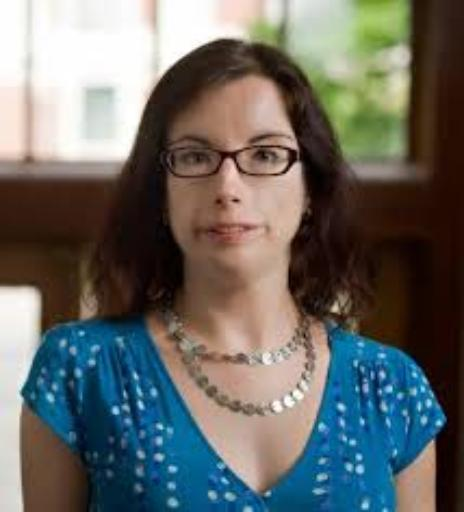left_eye: (250, 149, 283, 163)
left_lip_corner: (248, 221, 263, 237)
right_eye: (171, 153, 213, 173)
right_lip_corner: (199, 226, 214, 240)
